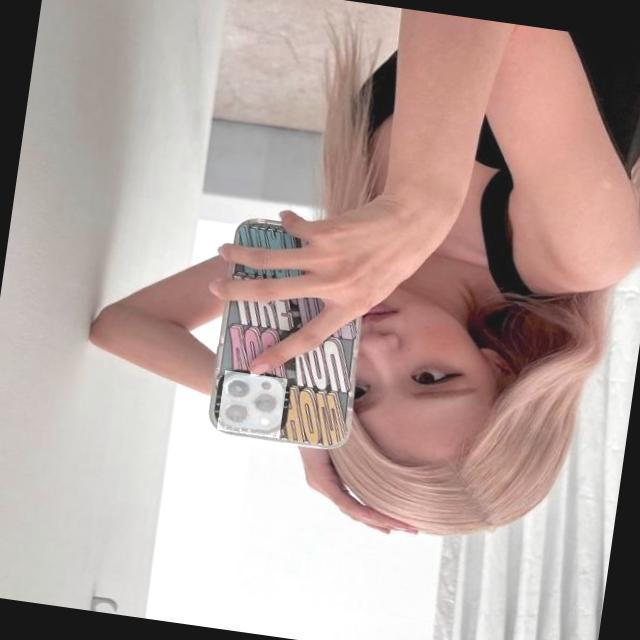lens: (217, 377, 282, 433)
phone: (200, 215, 376, 459)
